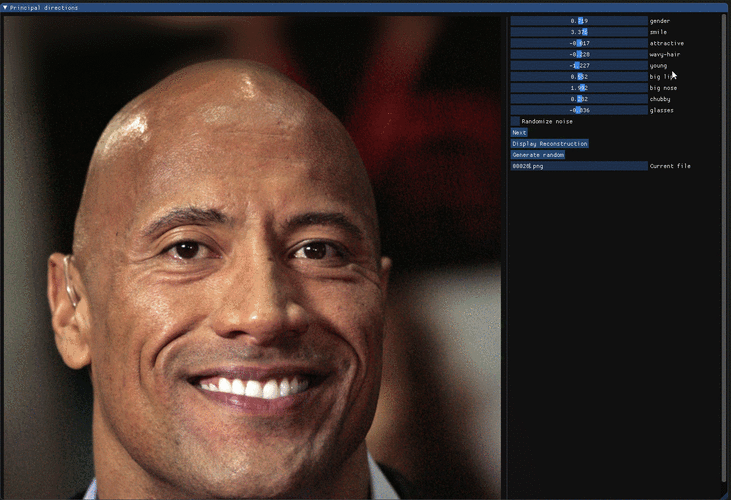no_mask: (100, 104, 382, 480)
